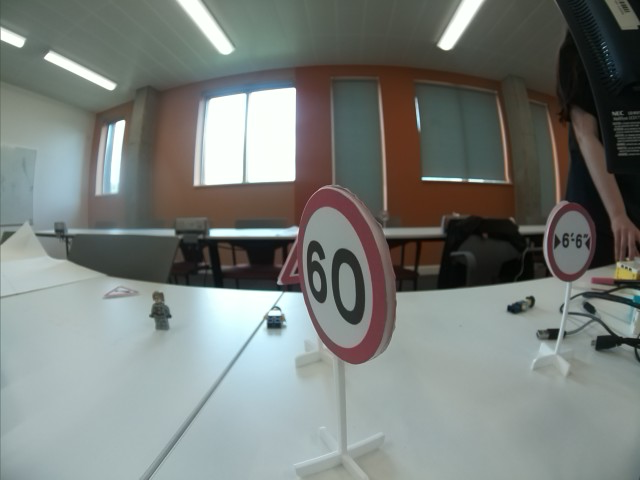60mph: (291, 187, 396, 367)
6ft6: (544, 205, 597, 283)
Lego Man: (149, 287, 174, 329), (506, 294, 538, 316), (264, 303, 285, 329)
Warning: (103, 283, 136, 298)
